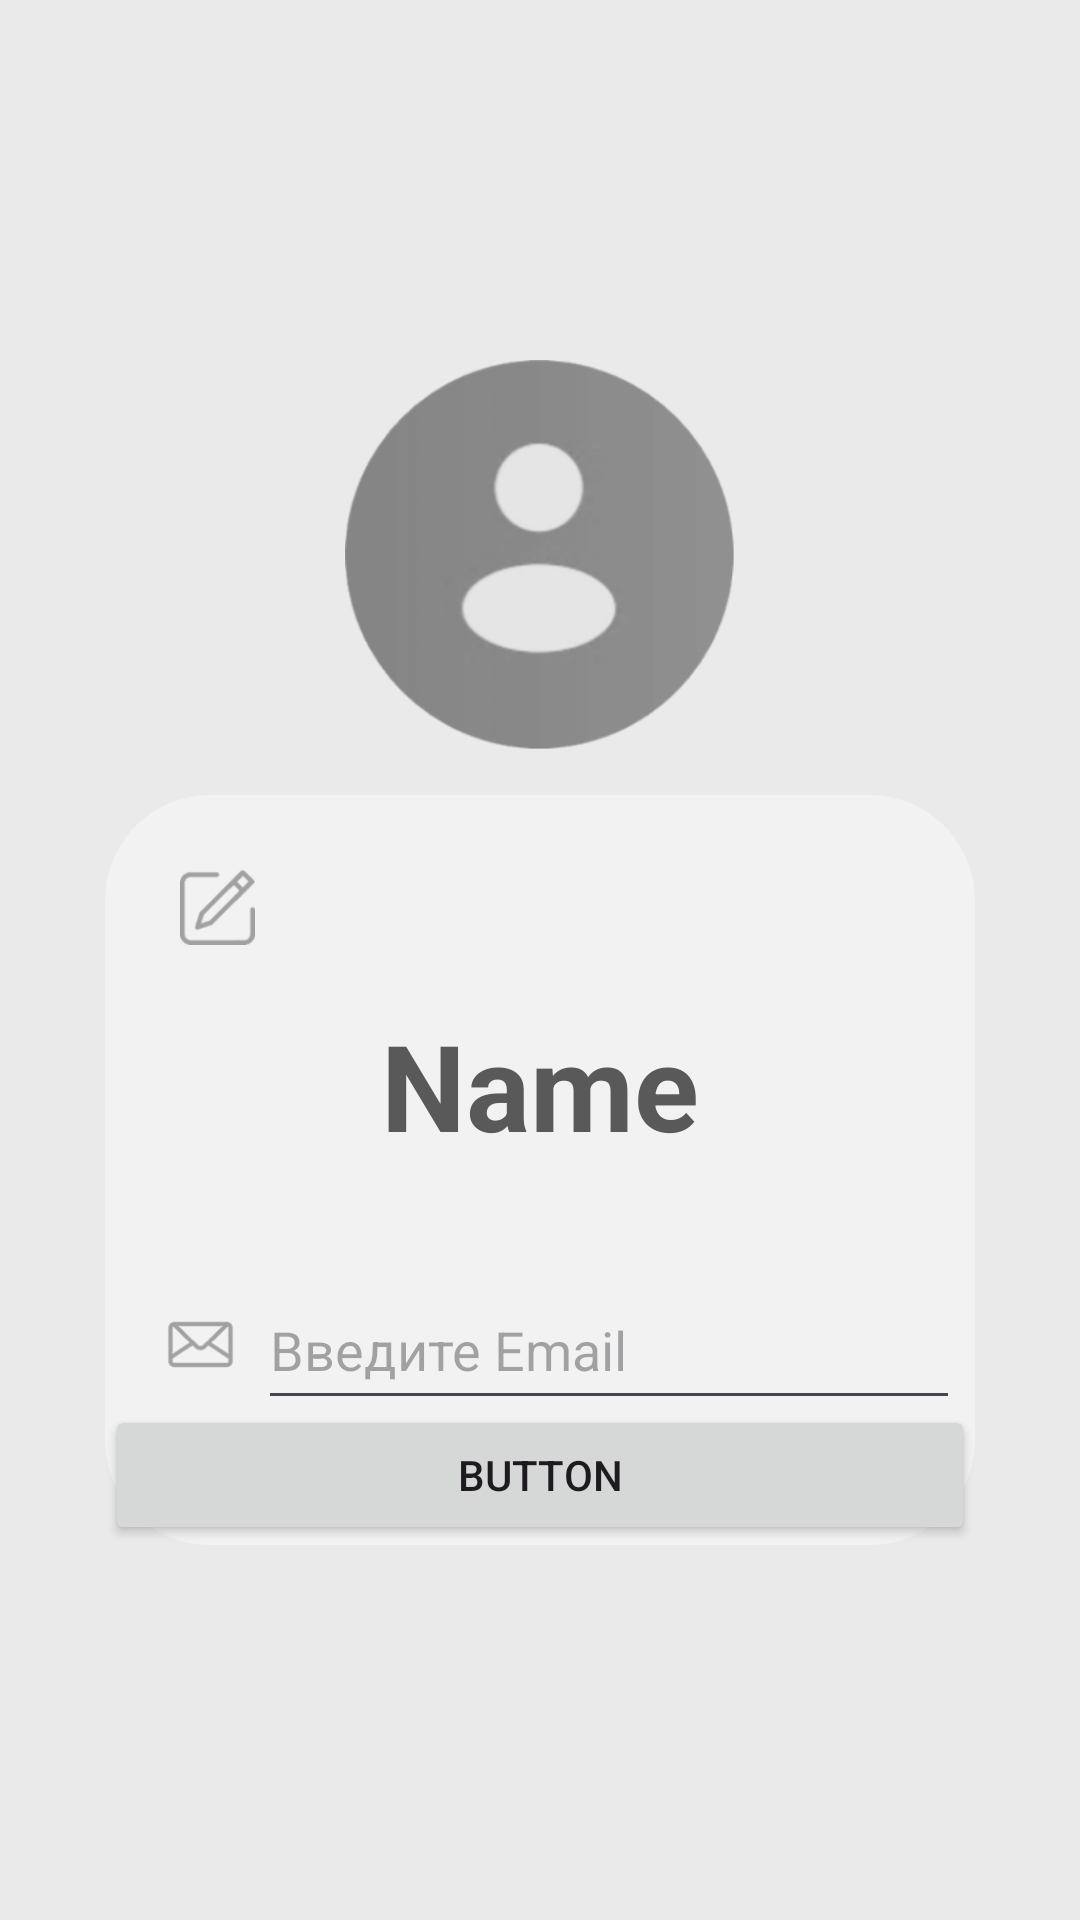

Point at icon controls on the screen. Image size 1080×1920, points as (x,y).
edit: (217,907)
eemail: (200,1344)
